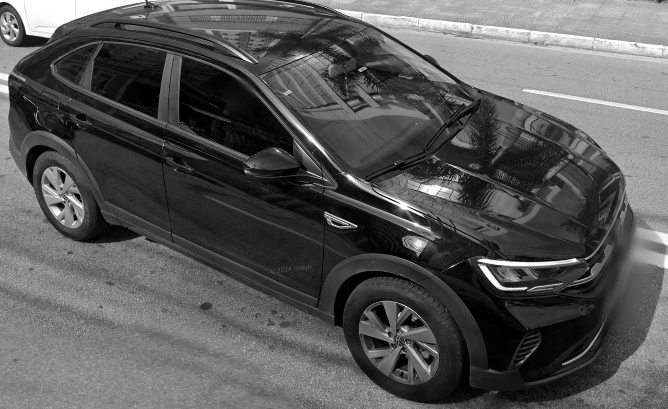car: (8, 1, 635, 402)
